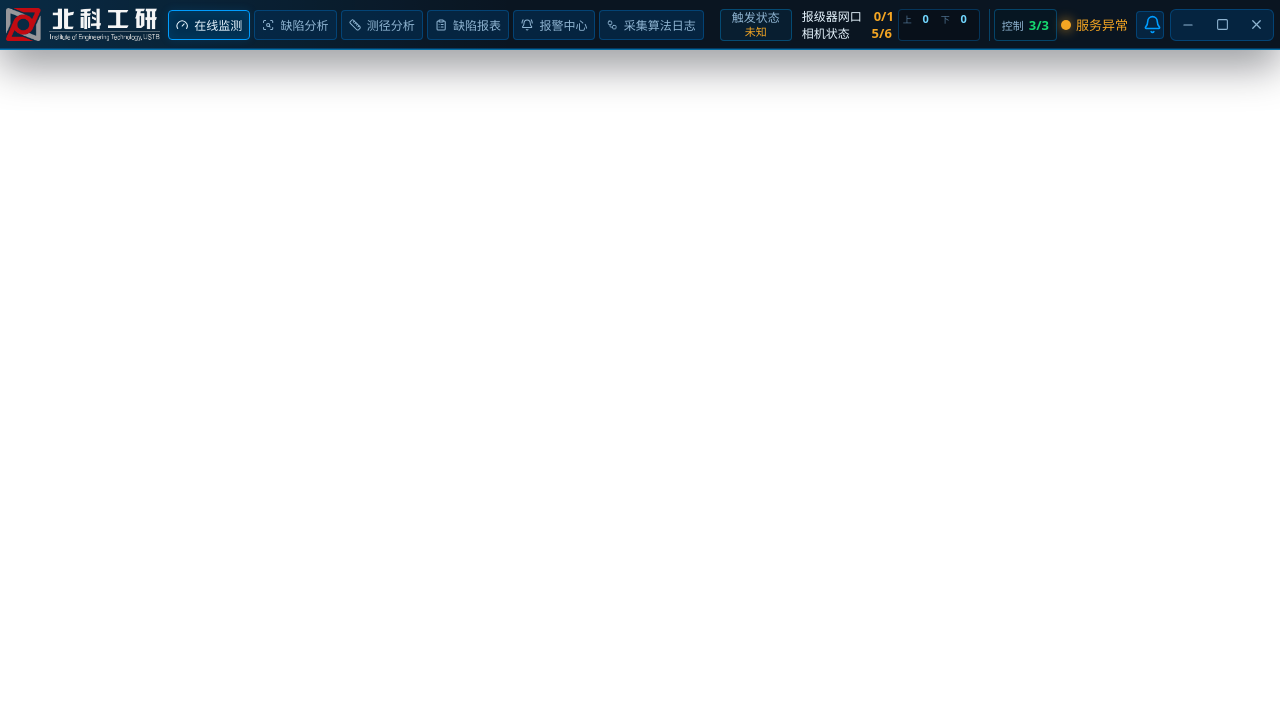
Test case: BrandHeader › limits online camera status to the configured camera count
What coordinates should you click on to do the following:
click the button with aria-label "相机状态，在线 5 路，异常 1 路"
I would click on:
 (844, 34)
Its box is [796, 26, 893, 41].
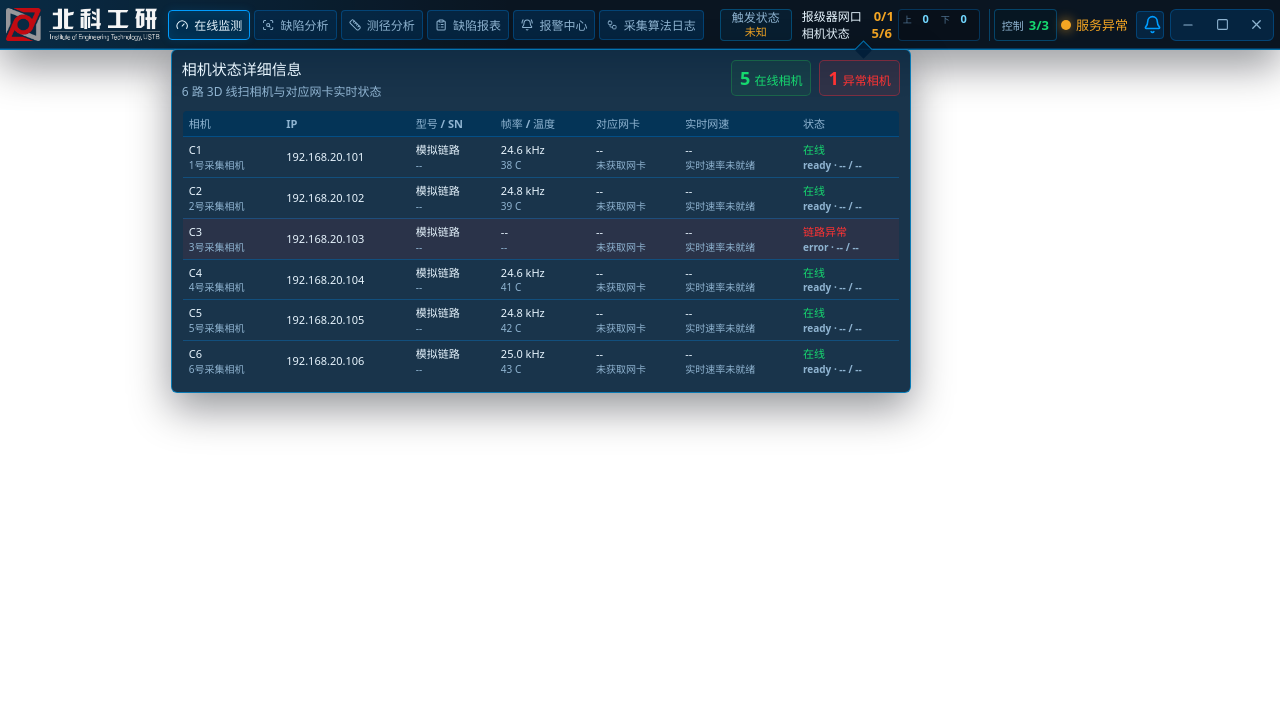
Check: the text "192.168.20.106" is shown, box [280, 340, 410, 381]
